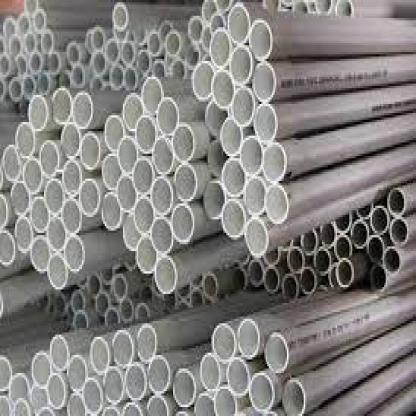PVC: (1, 0, 414, 414)
